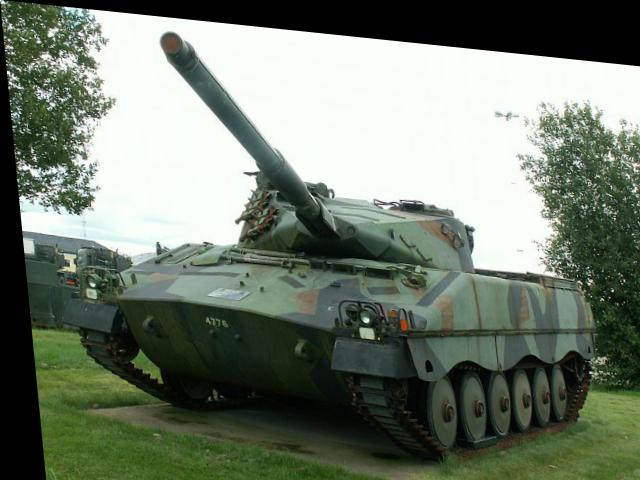tank: (99, 156, 595, 450)
